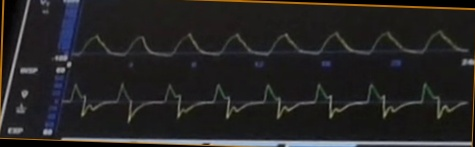Premature_cycling Flow: (64, 75, 466, 137)
Premature_cycling Volume: (77, 20, 468, 66)
